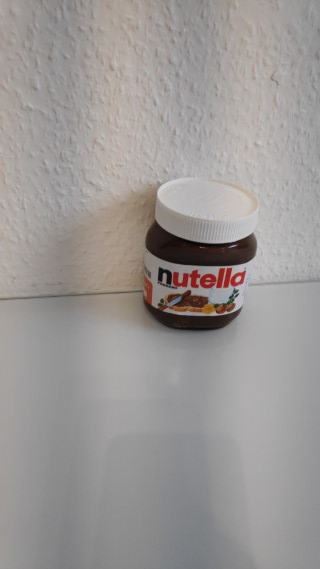nutella: (143, 174, 258, 330)
